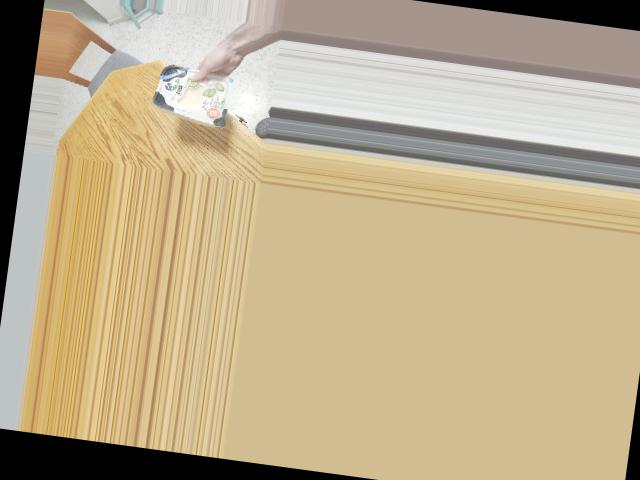cheese: (153, 65, 228, 118)
